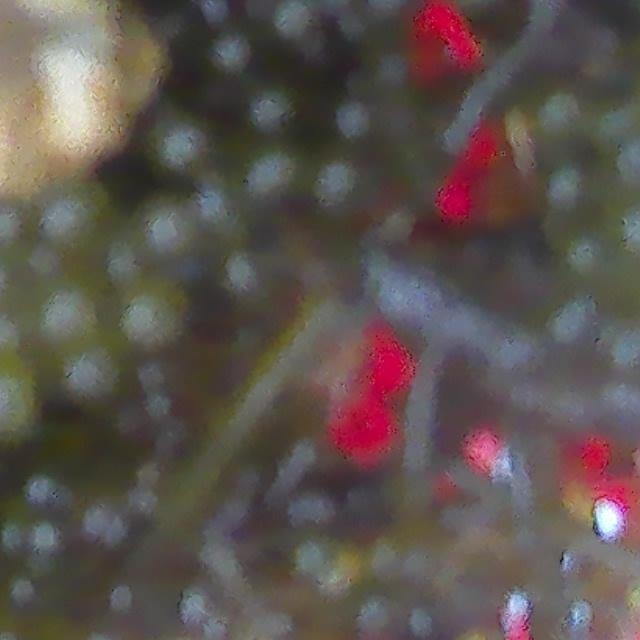SeaGrape: (39, 283, 97, 342), (123, 292, 181, 348)
